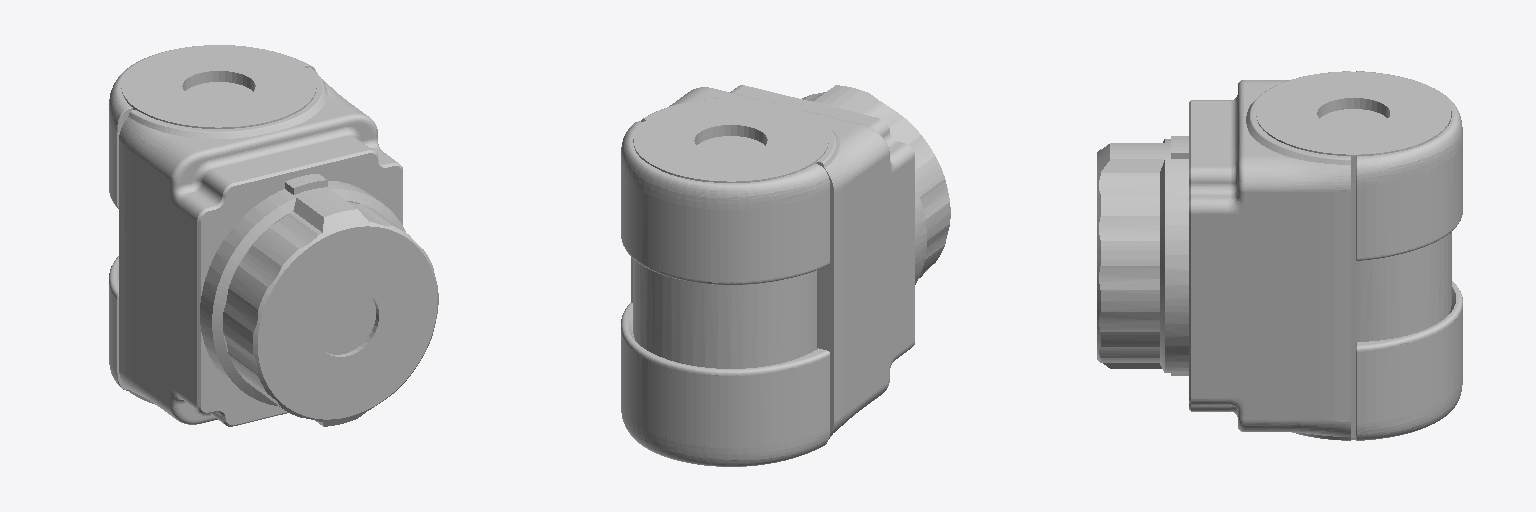
Rendered from pelvis_visuals.obj.
3 renders of one model, left to right at view 1: azimuth 30°, elevation 25°; view 2: azimuth 150°, elevation 25°; view 3: azimuth 270°, elevation 25°, orthographic.
Bounding box in the file's own units: 0.0975 × 0.1289 × 0.15.